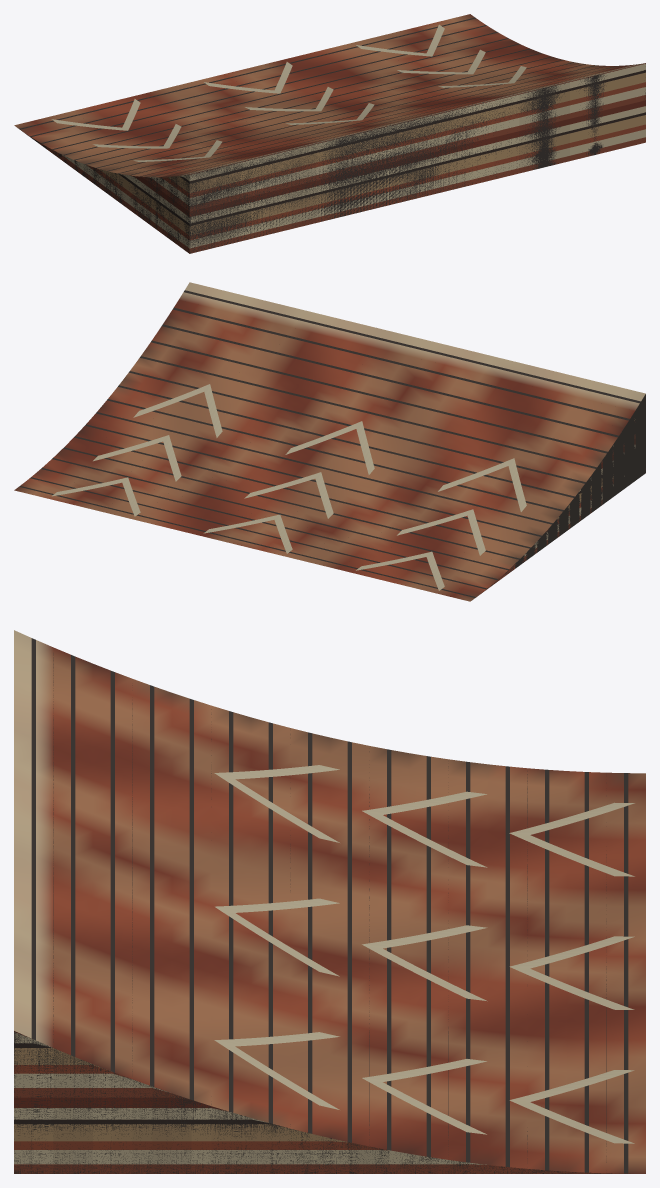
Rendered from mesa_lip_kicker_24x6x36.glb.
3 renders of one model, top to bottom at view 1: azimuth 30°, elevation 25°; view 2: azimuth 150°, elevation 25°; view 3: azimuth 270°, elevation 25°, orthographic. The views are drawn at different scales.
Visible parts, largest first — view 1: mesa_lip_kicker_24x6x36, mesa_lip_kicker_24x6x36-col; view 2: mesa_lip_kicker_24x6x36, mesa_lip_kicker_24x6x36-col; view 3: mesa_lip_kicker_24x6x36, mesa_lip_kicker_24x6x36-col.
Boxes of the visible parts, <box> form: mesa_lip_kicker_24x6x36: <box>14,14,645,253</box>; mesa_lip_kicker_24x6x36-col: <box>19,17,645,253</box>; mesa_lip_kicker_24x6x36: <box>14,282,645,601</box>; mesa_lip_kicker_24x6x36-col: <box>19,290,645,597</box>; mesa_lip_kicker_24x6x36: <box>14,630,645,1173</box>; mesa_lip_kicker_24x6x36-col: <box>14,638,628,1173</box>.
Bounding box in the file's own units: 36 × 6 × 24.
